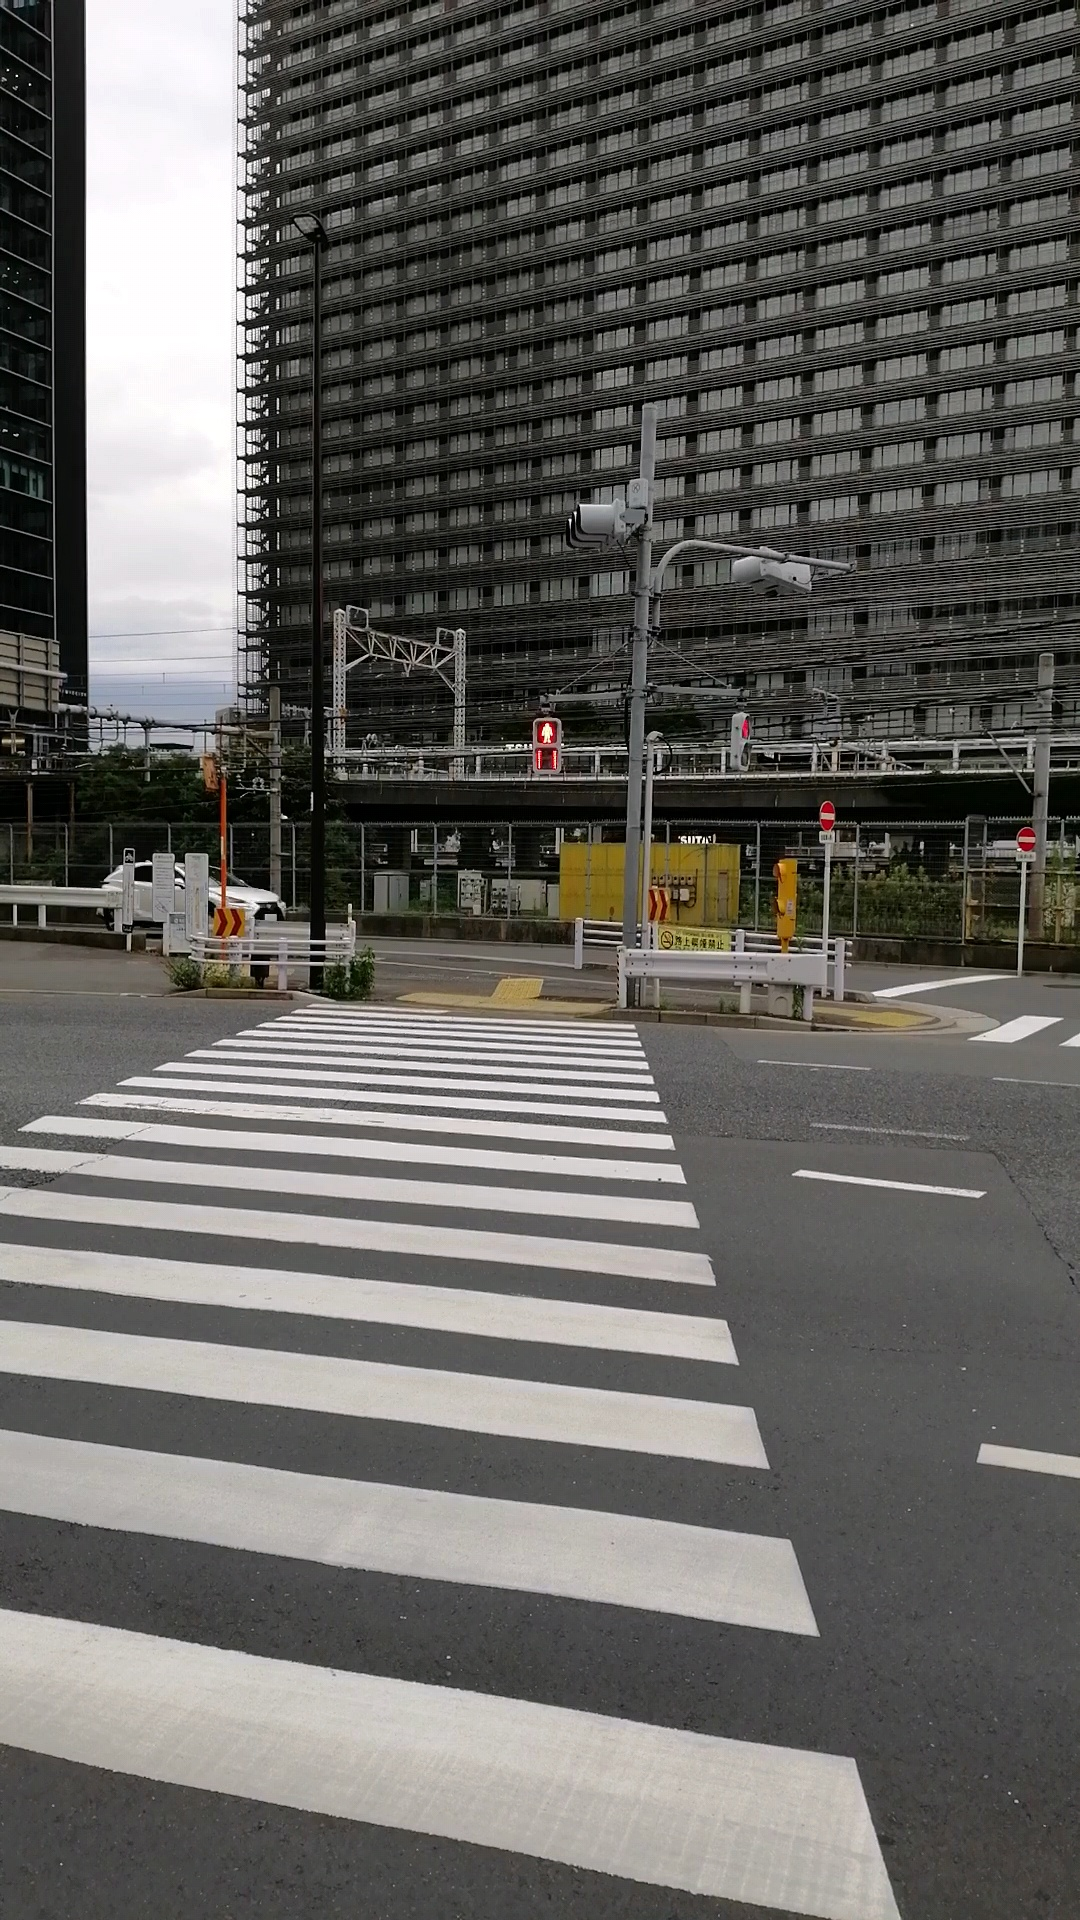red: (531, 715, 560, 771), (729, 712, 750, 770)
